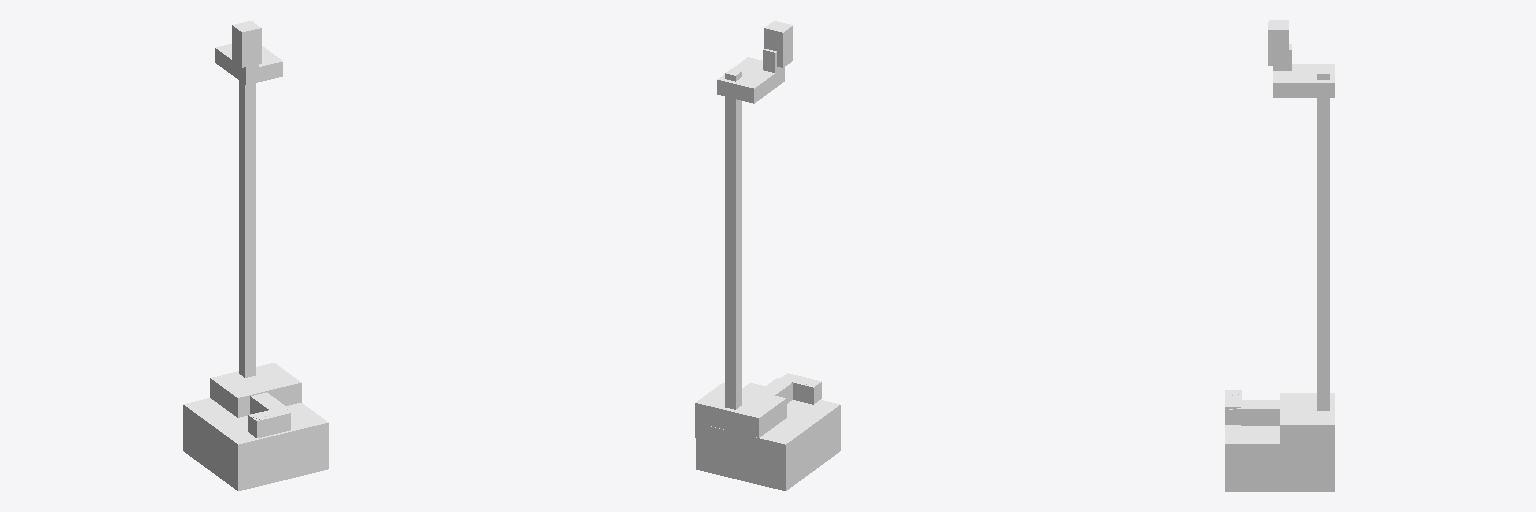
--- Facts derived from the render (not from the file) ---
3 views of the same robot in one strip: view 1: azimuth 30°, elevation 25°; view 2: azimuth 150°, elevation 25°; view 3: azimuth 270°, elevation 25° (orthographic).
Model stretch_description_S2.SLDASM with 23 links and 22 joints (5 revolute, 5 prismatic, 12 fixed), rooted at base_link, posed every joint at zero.
Visible links, largest first — view 1: base_link, link_mast, link_lift, link_head, link_head_tilt, link_arm_l0; view 2: base_link, link_mast, link_lift, link_head, link_head_tilt, link_arm_l0; view 3: base_link, link_mast, link_lift, link_head, link_arm_l4, link_head_tilt.
Link boxes in pixels (box(x1,y1,x2,y2)): base_link: box(183, 398, 328, 490); link_mast: box(239, 81, 255, 377); link_lift: box(210, 363, 301, 417); link_head: box(215, 44, 282, 84); link_head_tilt: box(232, 21, 261, 67); link_arm_l0: box(248, 407, 290, 437); base_link: box(696, 383, 840, 490); link_mast: box(725, 69, 741, 409); link_lift: box(695, 383, 786, 437); link_head: box(717, 57, 784, 103); link_head_tilt: box(764, 21, 792, 67); link_arm_l0: box(780, 373, 821, 404); base_link: box(1225, 400, 1334, 491); link_mast: box(1317, 69, 1329, 410); link_lift: box(1280, 393, 1334, 459); link_head: box(1273, 64, 1334, 97); link_arm_l4: box(1241, 401, 1279, 425); link_head_tilt: box(1268, 20, 1288, 65).
Size in the robot's own frame: 0.326 by 0.342 by 1.5 metres.
Meshes: 23 distinct files referenced, 12 mesh visuals loaded (12 binary STL); not drawn: 11 (reference not matched to a file when rendering).

The robot description file, URDF, robot "stretch_description_S2.SLDASM":
<?xml version="1.0" encoding="utf-8"?>
<!-- This URDF was automatically created by SolidWorks to URDF Exporter! Originally created by Stephen Brawner ([email redacted]) 
     Commit Version: 1.5.1-0-g916b5db  Build Version: 1.5.7152.31018
     For more information, please see http://wiki.ros.org/sw_urdf_exporter -->
<robot
  name="stretch_description_S2.SLDASM">
  <link
    name="base_link">
    <inertial>
      <origin
        xyz="-0.087526 -0.001626 0.081009"
        rpy="0 0 0" />
      <mass
        value="17.384389" />
      <inertia
        ixx="0.160002"
        ixy="0.006758"
        ixz="0.004621"
        iyy="0.138068"
        iyz="0.002208"
        izz="0.228992" />
    </inertial>
    <visual>
      <origin
        xyz="0 0 0"
        rpy="0 0 0" />
      <geometry>
        <mesh
          filename="package://stretch_description_S2.SLDASM/meshes/base_link.STL" />
      </geometry>
      <material
        name="">
        <color
          rgba="1 1 1 1" />
      </material>
    </visual>
    <collision>
      <origin
        xyz="0 0 0"
        rpy="0 0 0" />
      <geometry>
        <mesh
          filename="package://stretch_description_S2.SLDASM/meshes/base_link.STL" />
      </geometry>
    </collision>
  </link>
  <link
    name="link_right_wheel">
    <inertial>
      <origin
        xyz="0 0 0.02765"
        rpy="0 0 0" />
      <mass
        value="0.20773" />
      <inertia
        ixx="5.4E-05"
        ixy="0"
        ixz="0"
        iyy="5.4E-05"
        iyz="0"
        izz="5.1E-05" />
    </inertial>
    <visual>
      <origin
        xyz="0 0 0"
        rpy="0 0 0" />
      <geometry>
        <mesh
          filename="package://stretch_description_S2.SLDASM/meshes/link_right_wheel.STL" />
      </geometry>
      <material
        name="">
        <color
          rgba="1 1 1 1" />
      </material>
    </visual>
    <collision>
      <origin
        xyz="0 0 0"
        rpy="0 0 0" />
      <geometry>
        <mesh
          filename="package://stretch_description_S2.SLDASM/meshes/link_right_wheel.STL" />
      </geometry>
    </collision>
  </link>
  <joint
    name="joint_right_wheel"
    type="revolute">
    <origin
      xyz="0 -0.17035 0.0508"
      rpy="-1.570796327 0 0" />
    <parent
      link="base_link" />
    <child
      link="link_right_wheel" />
    <axis
      xyz="0 0 -1" />
    <limit
      lower="0"
      upper="0"
      effort="0"
      velocity="0" />
  </joint>
  <link
    name="link_left_wheel">
    <inertial>
      <origin
        xyz="0 0 -0.02765"
        rpy="0 0 0" />
      <mass
        value="0.20773" />
      <inertia
        ixx="5.4E-05"
        ixy="0"
        ixz="0"
        iyy="5.4E-05"
        iyz="0"
        izz="5.1E-05" />
    </inertial>
    <visual>
      <origin
        xyz="0 0 0"
        rpy="0 0 0" />
      <geometry>
        <mesh
          filename="package://stretch_description_S2.SLDASM/meshes/link_left_wheel.STL" />
      </geometry>
      <material
        name="">
        <color
          rgba="1 1 1 1" />
      </material>
    </visual>
    <collision>
      <origin
        xyz="0 0 0"
        rpy="0 0 0" />
      <geometry>
        <mesh
          filename="package://stretch_description_S2.SLDASM/meshes/link_left_wheel.STL" />
      </geometry>
    </collision>
  </link>
  <joint
    name="joint_left_wheel"
    type="revolute">
    <origin
      xyz="0 0.17035 0.0508"
      rpy="-1.570796327 0 0" />
    <parent
      link="base_link" />
    <child
      link="link_left_wheel" />
    <axis
      xyz="0 0 -1" />
    <limit
      lower="0"
      upper="0"
      effort="0"
      velocity="0" />
  </joint>
  <link
    name="link_aruco_right_base">
    <inertial>
      <origin
        xyz="0 0 0"
        rpy="0 0 0" />
      <mass
        value="0.000917" />
      <inertia
        ixx="0"
        ixy="0"
        ixz="0"
        iyy="0"
        iyz="0"
        izz="0" />
    </inertial>
    <visual>
      <origin
        xyz="0 0 0"
        rpy="0 0 0" />
      <geometry>
        <mesh
          filename="package://stretch_description_S2.SLDASM/meshes/link_aruco_right_base.STL" />
      </geometry>
      <material
        name="">
        <color
          rgba="1 1 1 1" />
      </material>
    </visual>
    <collision>
      <origin
        xyz="0 0 0"
        rpy="0 0 0" />
      <geometry>
        <mesh
          filename="package://stretch_description_S2.SLDASM/meshes/link_aruco_right_base.STL" />
      </geometry>
    </collision>
  </link>
  <joint
    name="joint_aruco_right_base"
    type="fixed">
    <origin
      xyz="-0.001502848 -0.1304972 0.1598472"
      rpy="0 0 -1.570796327" />
    <parent
      link="base_link" />
    <child
      link="link_aruco_right_base" />
    <axis
      xyz="0 0 0" />
  </joint>
  <link
    name="link_aruco_left_base">
    <inertial>
      <origin
        xyz="0 0 0"
        rpy="0 0 0" />
      <mass
        value="0.000917" />
      <inertia
        ixx="0"
        ixy="0"
        ixz="0"
        iyy="0"
        iyz="0"
        izz="0" />
    </inertial>
    <visual>
      <origin
        xyz="0 0 0"
        rpy="0 0 0" />
      <geometry>
        <mesh
          filename="package://stretch_description_S2.SLDASM/meshes/link_aruco_left_base.STL" />
      </geometry>
      <material
        name="">
        <color
          rgba="1 1 1 1" />
      </material>
    </visual>
    <collision>
      <origin
        xyz="0 0 0"
        rpy="0 0 0" />
      <geometry>
        <mesh
          filename="package://stretch_description_S2.SLDASM/meshes/link_aruco_left_base.STL" />
      </geometry>
    </collision>
  </link>
  <joint
    name="joint_aruco_left_base"
    type="fixed">
    <origin
      xyz="-0.001502848 0.1304972 0.1598472"
      rpy="0 0 -1.570796327" />
    <parent
      link="base_link" />
    <child
      link="link_aruco_left_base" />
    <axis
      xyz="0 0 0" />
  </joint>
  <link
    name="laser">
    <inertial>
      <origin
        xyz="0.011979 -0.000523 -0.01998"
        rpy="0 0 0" />
      <mass
        value="0.216007" />
      <inertia
        ixx="9.5E-05"
        ixy="2E-06"
        ixz="-1.9E-05"
        iyy="0.000184"
        iyz="-1E-06"
        izz="0.000216" />
    </inertial>
    <visual>
      <origin
        xyz="0 0 0"
        rpy="0 0 0" />
      <geometry>
        <mesh
          filename="package://stretch_description_S2.SLDASM/meshes/laser.STL" />
      </geometry>
      <material
        name="">
        <color
          rgba="1 1 1 1" />
      </material>
    </visual>
    <collision>
      <origin
        xyz="0 0 0"
        rpy="0 0 0" />
      <geometry>
        <mesh
          filename="package://stretch_description_S2.SLDASM/meshes/laser.STL" />
      </geometry>
    </collision>
  </link>
  <joint
    name="joint_laser"
    type="fixed">
    <origin
      xyz="0.003999952 0 0.1664"
      rpy="0 0 3.141592654" />
    <parent
      link="base_link" />
    <child
      link="laser" />
    <axis
      xyz="0 0 0" />
  </joint>
  <link
    name="link_mast">
    <inertial>
      <origin
        xyz="0.000337 0.722201 0.002652"
        rpy="0 0 0" />
      <mass
        value="1.764017" />
      <inertia
        ixx="0.291286"
        ixy="0.004149"
        ixz="-0.000174"
        iyy="0.001226"
        iyz="0.000354"
        izz="0.291429" />
    </inertial>
    <visual>
      <origin
        xyz="0 0 0"
        rpy="0 0 0" />
      <geometry>
        <mesh
          filename="package://stretch_description_S2.SLDASM/meshes/link_mast.STL" />
      </geometry>
      <material
        name="">
        <color
          rgba="1 1 1 1" />
      </material>
    </visual>
    <collision>
      <origin
        xyz="0 0 0"
        rpy="0 0 0" />
      <geometry>
        <mesh
          filename="package://stretch_description_S2.SLDASM/meshes/link_mast.STL" />
      </geometry>
    </collision>
  </link>
  <joint
    name="joint_mast"
    type="fixed">
    <origin
      xyz="-0.067 0.135 0.0284"
      rpy="1.570796327 0 0" />
    <parent
      link="base_link" />
    <child
      link="link_mast" />
    <axis
      xyz="0 0 0" />
  </joint>
  <link
    name="link_lift">
    <inertial>
      <origin
        xyz="-0.020369 0.03438 0.02236"
        rpy="0 0 0" />
      <mass
        value="1.987167" />
      <inertia
        ixx="0.006518"
        ixy="-0.001539"
        ixz="0.000371"
        iyy="0.004464"
        iyz="0.000392"
        izz="0.008092" />
    </inertial>
    <visual>
      <origin
        xyz="0 0 0"
        rpy="0 0 0" />
      <geometry>
        <mesh
          filename="package://stretch_description_S2.SLDASM/meshes/link_lift.STL" />
      </geometry>
      <material
        name="">
        <color
          rgba="1 1 1 1" />
      </material>
    </visual>
    <collision>
      <origin
        xyz="0 0 0"
        rpy="0 0 0" />
      <geometry>
        <mesh
          filename="package://stretch_description_S2.SLDASM/meshes/link_lift.STL" />
      </geometry>
    </collision>
  </link>
  <joint
    name="joint_lift"
    type="prismatic">
    <origin
      xyz="-0.037385437 0.1665972 0"
      rpy="1.570796327 1.570796327 0" />
    <parent
      link="link_mast" />
    <child
      link="link_lift" />
    <axis
      xyz="0 0 -1" />
    <limit
      lower="0"
      upper="1.1"
      effort="1"
      velocity="1" />
  </joint>
  <link
    name="link_aruco_shoulder">
    <inertial>
      <origin
        xyz="0 0 0"
        rpy="0 0 0" />
      <mass
        value="0.000917" />
      <inertia
        ixx="0"
        ixy="0"
        ixz="0"
        iyy="0"
        iyz="0"
        izz="0" />
    </inertial>
    <visual>
      <origin
        xyz="0 0 0"
        rpy="0 0 0" />
      <geometry>
        <mesh
          filename="package://stretch_description_S2.SLDASM/meshes/link_aruco_shoulder.STL" />
      </geometry>
      <material
        name="">
        <color
          rgba="1 1 1 1" />
      </material>
    </visual>
    <collision>
      <origin
        xyz="0 0 0"
        rpy="0 0 0" />
      <geometry>
        <mesh
          filename="package://stretch_description_S2.SLDASM/meshes/link_aruco_shoulder.STL" />
      </geometry>
    </collision>
  </link>
  <joint
    name="joint_aruco_shoulder"
    type="fixed">
    <origin
      xyz="-0.013376888 0.055391903 0.086390827"
      rpy="0 0 0" />
    <parent
      link="link_lift" />
    <child
      link="link_aruco_shoulder" />
    <axis
      xyz="0 0 0" />
  </joint>
  <link
    name="link_arm_l4">
    <inertial>
      <origin
        xyz="-0.000168 -0.000254 -0.125235"
        rpy="0 0 0" />
      <mass
        value="0.235626" />
      <inertia
        ixx="0.001518"
        ixy="-1E-06"
        ixz="3E-06"
        iyy="0.001519"
        iyz="3E-06"
        izz="0.000176" />
    </inertial>
    <visual>
      <origin
        xyz="0 0 0"
        rpy="0 0 0" />
      <geometry>
        <mesh
          filename="package://stretch_description_S2.SLDASM/meshes/link_arm_l4.STL" />
      </geometry>
      <material
        name="">
        <color
          rgba="1 1 1 1" />
      </material>
    </visual>
    <collision>
      <origin
        xyz="0 0 0"
        rpy="0 0 0" />
      <geometry>
        <mesh
          filename="package://stretch_description_S2.SLDASM/meshes/link_arm_l4.STL" />
      </geometry>
    </collision>
  </link>
  <joint
    name="joint_arm_l4"
    type="fixed">
    <origin
      xyz="-0.2547027 0 0"
      rpy="1.570796327 0 -1.570796327" />
    <parent
      link="link_lift" />
    <child
      link="link_arm_l4" />
    <axis
      xyz="0 0 0" />
  </joint>
  <link
    name="link_arm_l3">
    <inertial>
      <origin
        xyz="-1E-06 -0.000146 -0.11908"
        rpy="0 0 0" />
      <mass
        value="0.146817" />
      <inertia
        ixx="0.001081"
        ixy="0"
        ixz="0"
        iyy="0.001081"
        iyz="-1E-06"
        izz="7.7E-05" />
    </inertial>
    <visual>
      <origin
        xyz="0 0 0"
        rpy="0 0 0" />
      <geometry>
        <mesh
          filename="package://stretch_description_S2.SLDASM/meshes/link_arm_l3.STL" />
      </geometry>
      <material
        name="">
        <color
          rgba="1 1 1 1" />
      </material>
    </visual>
    <collision>
      <origin
        xyz="0 0 0"
        rpy="0 0 0" />
      <geometry>
        <mesh
          filename="package://stretch_description_S2.SLDASM/meshes/link_arm_l3.STL" />
      </geometry>
    </collision>
  </link>
  <joint
    name="joint_arm_l3"
    type="prismatic">
    <origin
      xyz="0 0 0.013"
      rpy="0 0 0" />
    <parent
      link="link_arm_l4" />
    <child
      link="link_arm_l3" />
    <axis
      xyz="0 0 -1" />
    <limit
      lower="0"
      upper="1"
      effort="1"
      velocity="1" />
  </joint>
  <link
    name="link_arm_l2">
    <inertial>
      <origin
        xyz="0 -7.1E-05 -0.115635"
        rpy="0 0 0" />
      <mass
        value="0.130565" />
      <inertia
        ixx="0.000943"
        ixy="0"
        ixz="0"
        iyy="0.000943"
        iyz="0"
        izz="5.7E-05" />
    </inertial>
    <visual>
      <origin
        xyz="0 0 0"
        rpy="0 0 0" />
      <geometry>
        <mesh
          filename="package://stretch_description_S2.SLDASM/meshes/link_arm_l2.STL" />
      </geometry>
      <material
        name="">
        <color
          rgba="1 1 1 1" />
      </material>
    </visual>
    <collision>
      <origin
        xyz="0 0 0"
        rpy="0 0 0" />
      <geometry>
        <mesh
          filename="package://stretch_description_S2.SLDASM/meshes/link_arm_l2.STL" />
      </geometry>
    </collision>
  </link>
  <joint
    name="joint_arm_l2"
    type="prismatic">
    <origin
      xyz="0 0 0.013"
      rpy="0 0 0" />
    <parent
      link="link_arm_l3" />
    <child
      link="link_arm_l2" />
    <axis
      xyz="0 0 -1" />
    <limit
      lower="0"
      upper="1"
      effort="1"
      velocity="1" />
  </joint>
  <link
    name="link_arm_l1">
    <inertial>
      <origin
        xyz="-1E-06 -0.000121 -0.113457"
        rpy="0 0 0" />
      <mass
        value="0.113658" />
      <inertia
        ixx="0.0008"
        ixy="0"
        ixz="0"
        iyy="0.0008"
        iyz="0"
        izz="4E-05" />
    </inertial>
    <visual>
      <origin
        xyz="0 0 0"
        rpy="0 0 0" />
      <geometry>
        <mesh
          filename="package://stretch_description_S2.SLDASM/meshes/link_arm_l1.STL" />
      </geometry>
      <material
        name="">
        <color
          rgba="1 1 1 1" />
      </material>
    </visual>
    <collision>
      <origin
        xyz="0 0 0"
        rpy="0 0 0" />
      <geometry>
        <mesh
          filename="package://stretch_description_S2.SLDASM/meshes/link_arm_l1.STL" />
      </geometry>
    </collision>
  </link>
  <joint
    name="joint_arm_l1"
    type="prismatic">
    <origin
      xyz="0 0 0.013"
      rpy="0 0 0" />
    <parent
      link="link_arm_l2" />
    <child
      link="link_arm_l1" />
    <axis
      xyz="0 0 -1" />
    <limit
      lower="0"
      upper="1"
      effort="1"
      velocity="1" />
  </joint>
  <link
    name="link_arm_l0">
    <inertial>
      <origin
        xyz="0.033681 -0.000847 -0.031723"
        rpy="0 0 0" />
      <mass
        value="0.427734" />
      <inertia
        ixx="0.001689"
        ixy="-2.8E-05"
        ixz="0.000483"
        iyy="0.002107"
        iyz="-1.1E-05"
        izz="0.000571" />
    </inertial>
    <visual>
      <origin
        xyz="0 0 0"
        rpy="0 0 0" />
      <geometry>
        <mesh
          filename="package://stretch_description_S2.SLDASM/meshes/link_arm_l0.STL" />
      </geometry>
      <material
        name="">
        <color
          rgba="1 1 1 1" />
      </material>
    </visual>
    <collision>
      <origin
        xyz="0 0 0"
        rpy="0 0 0" />
      <geometry>
        <mesh
          filename="package://stretch_description_S2.SLDASM/meshes/link_arm_l0.STL" />
      </geometry>
    </collision>
  </link>
  <joint
    name="joint_arm_l0"
    type="prismatic">
    <origin
      xyz="0 0 -0.01375"
      rpy="0 0 0" />
    <parent
      link="link_arm_l1" />
    <child
      link="link_arm_l0" />
    <axis
      xyz="0 0 -1" />
    <limit
      lower="0"
      upper="1"
      effort="1"
      velocity="1" />
  </joint>
  <link
    name="link_aruco_top_wrist">
    <inertial>
      <origin
        xyz="0 0 0"
        rpy="0 0.000229 0" />
      <mass
        value="0.000917" />
      <inertia
        ixx="0"
        ixy="0"
        ixz="0"
        iyy="0"
        iyz="0"
        izz="0" />
    </inertial>
    <visual>
      <origin
        xyz="0 0 0"
        rpy="0 0 0" />
      <geometry>
        <mesh
          filename="package://stretch_description_S2.SLDASM/meshes/link_aruco_top_wrist.STL" />
      </geometry>
      <material
        name="">
        <color
          rgba="1 1 1 1" />
      </material>
    </visual>
    <collision>
      <origin
        xyz="0 0 0"
        rpy="0 0 0" />
      <geometry>
        <mesh
          filename="package://stretch_description_S2.SLDASM/meshes/link_aruco_top_wrist.STL" />
      </geometry>
    </collision>
  </link>
  <joint
    name="joint_aruco_top_wrist"
    type="fixed">
    <origin
      xyz="0.04725 0.029285 0"
      rpy="1.570796327 0 3.141592654" />
    <parent
      link="link_arm_l0" />
    <child
      link="link_aruco_top_wrist" />
    <axis
      xyz="0 0 0" />
  </joint>
  <link
    name="link_aruco_inner_wrist">
    <inertial>
      <origin
        xyz="0 0 0"
        rpy="0 0.000229 0" />
      <mass
        value="0.000917" />
      <inertia
        ixx="0"
        ixy="0"
        ixz="0"
        iyy="0"
        iyz="0"
        izz="0" />
    </inertial>
    <visual>
      <origin
        xyz="0 0 0"
        rpy="0 0 0" />
      <geometry>
        <mesh
          filename="package://stretch_description_S2.SLDASM/meshes/link_aruco_inner_wrist.STL" />
      </geometry>
      <material
        name="">
        <color
          rgba="1 1 1 1" />
      </material>
    </visual>
    <collision>
      <origin
        xyz="0 0 0"
        rpy="0 0 0" />
      <geometry>
        <mesh
          filename="package://stretch_description_S2.SLDASM/meshes/link_aruco_inner_wrist.STL" />
      </geometry>
    </collision>
  </link>
  <joint
    name="joint_aruco_inner_wrist"
    type="fixed">
    <origin
      xyz="0.04725 -0.0119 -0.02725"
      rpy="3.141592654 0 3.141592654" />
    <parent
      link="link_arm_l0" />
    <child
      link="link_aruco_inner_wrist" />
    <axis
      xyz="0 0 0" />
  </joint>
  <link
    name="link_wrist_yaw">
    <inertial>
      <origin
        xyz="0 -3.9E-05 -0.016495"
        rpy="0 0 0" />
      <mass
        value="0.054422" />
      <inertia
        ixx="9E-06"
        ixy="0"
        ixz="0"
        iyy="9E-06"
        iyz="0"
        izz="7E-06" />
    </inertial>
    <visual>
      <origin
        xyz="0 0 0"
        rpy="0 0 0" />
      <geometry>
        <mesh
          filename="package://stretch_description_S2.SLDASM/meshes/link_wrist_yaw.STL" />
      </geometry>
      <material
        name="">
        <color
          rgba="1 1 1 1" />
      </material>
    </visual>
    <collision>
      <origin
        xyz="0 0 0"
        rpy="0 0 0" />
      <geometry>
        <mesh
          filename="package://stretch_description_S2.SLDASM/meshes/link_wrist_yaw.STL" />
      </geometry>
    </collision>
  </link>
  <joint
    name="joint_wrist_yaw"
    type="revolute">
    <origin
      xyz="0.083 -0.03075 0"
      rpy="-1.570796327 0 3.141592654" />
    <parent
      link="link_arm_l0" />
    <child
      link="link_wrist_yaw" />
    <axis
      xyz="0 0 -1" />
    <limit
      lower="0"
      upper="3.1416"
      effort="1"
      velocity="1" />
  </joint>
  <link
    name="respeaker_base">
    <inertial>
      <origin
        xyz="-0.001594 -0.001282 -0.008098"
        rpy="0 0 0" />
      <mass
        value="0.025175" />
      <inertia
        ixx="1E-05"
        ixy="2E-06"
        ixz="1E-06"
        iyy="1.2E-05"
        iyz="0"
        izz="1.5E-05" />
    </inertial>
    <visual>
      <origin
        xyz="0 0 0"
        rpy="0 0 0" />
      <geometry>
        <mesh
          filename="package://stretch_description_S2.SLDASM/meshes/respeaker_base.STL" />
      </geometry>
      <material
        name="">
        <color
          rgba="1 1 1 1" />
      </material>
    </visual>
    <collision>
      <origin
        xyz="0 0 0"
        rpy="0 0 0" />
      <geometry>
        <mesh
          filename="package://stretch_description_S2.SLDASM/meshes/respeaker_base.STL" />
      </geometry>
    </collision>
  </link>
  <joint
    name="joint_respeaker_base"
    type="fixed">
    <origin
      xyz="0 1.372364089 0.003030659"
      rpy="-1.570796327 -0.698131701 0" />
    <parent
      link="link_mast" />
    <child
      link="respeaker_base" />
    <axis
      xyz="0 0 0" />
  </joint>
  <link
    name="link_head">
    <inertial>
      <origin
        xyz="0.047462 0.04451 0.016376"
        rpy="0 0 0" />
      <mass
        value="0.681871" />
      <inertia
        ixx="0.001023"
        ixy="0.000641"
        ixz="6.6E-05"
        iyy="0.002097"
        iyz="6.5E-05"
        izz="0.00281" />
    </inertial>
    <visual>
      <origin
        xyz="0 0 0"
        rpy="0 0 0" />
      <geometry>
        <mesh
          filename="package://stretch_description_S2.SLDASM/meshes/link_head.STL" />
      </geometry>
      <material
        name="">
        <color
          rgba="1 1 1 1" />
      </material>
    </visual>
    <collision>
      <origin
        xyz="0 0 0"
        rpy="0 0 0" />
      <geometry>
        <mesh
          filename="package://stretch_description_S2.SLDASM/meshes/link_head.STL" />
      </geometry>
    </collision>
  </link>
  <joint
    name="joint_head"
    type="fixed">
    <origin
      xyz="0 1.33 0"
      rpy="1.5708 -1.5708 0" />
    <parent
      link="link_mast" />
    <child
      link="link_head" />
    <axis
      xyz="0 0 0" />
  </joint>
  <link
    name="link_head_pan">
    <inertial>
      <origin
        xyz="-0.000422 0.013934 -0.0161"
        rpy="0 0 0" />
      <mass
        value="0.062462" />
      <inertia
        ixx="4.1E-05"
        ixy="-1E-06"
        ixz="1E-06"
        iyy="3.2E-05"
        iyz="-1.5E-05"
        izz="2.2E-05" />
    </inertial>
    <visual>
      <origin
        xyz="0 0 0"
        rpy="0 0 0" />
      <geometry>
        <mesh
          filename="package://stretch_description_S2.SLDASM/meshes/link_head_pan.STL" />
      </geometry>
      <material
        name="">
        <color
          rgba="1 1 1 1" />
      </material>
    </visual>
    <collision>
      <origin
        xyz="0 0 0"
        rpy="0 0 0" />
      <geometry>
        <mesh
          filename="package://stretch_description_S2.SLDASM/meshes/link_head_pan.STL" />
      </geometry>
    </collision>
  </link>
  <joint
    name="joint_head_pan"
    type="revolute">
    <origin
      xyz="0.135 0.0731 -0.0031962"
      rpy="0 0 1.5708" />
    <parent
      link="link_head" />
    <child
      link="link_head_pan" />
    <axis
      xyz="0 0 -1" />
    <limit
      lower="0"
      upper="1"
      effort="1"
      velocity="1" />
  </joint>
  <link
    name="link_head_tilt">
    <inertial>
      <origin
        xyz="0.003907 -0.02418 0.030154"
        rpy="0 0 0" />
      <mass
        value="0.283548" />
      <inertia
        ixx="0.000316"
        ixy="-6E-06"
        ixz="1E-06"
        iyy="0.000143"
        iyz="-2E-06"
        izz="0.00031" />
    </inertial>
    <visual>
      <origin
        xyz="0 0 0"
        rpy="0 0 0" />
      <geometry>
        <mesh
          filename="package://stretch_description_S2.SLDASM/meshes/link_head_tilt.STL" />
      </geometry>
      <material
        name="">
        <color
          rgba="1 1 1 1" />
      </material>
    </visual>
    <collision>
      <origin
        xyz="0 0 0"
        rpy="0 0 0" />
      <geometry>
        <mesh
          filename="package://stretch_description_S2.SLDASM/meshes/link_head_tilt.STL" />
      </geometry>
    </collision>
  </link>
  <joint
    name="joint_head_tilt"
    type="revolute">
    <origin
      xyz="-0.0013 0.0277625 -0.053310792"
      rpy="1.570796327 0 0" />
    <parent
      link="link_head_pan" />
    <child
      link="link_head_tilt" />
    <axis
      xyz="0 0 -1" />
    <limit
      lower="0"
      upper="3.1416"
      effort="1"
      velocity="1" />
  </joint>
  <link
    name="link_camera">
    <inertial>
      <origin
        xyz="-2E-06 -0.024182 -0.011778"
        rpy="0 0 0" />
      <mass
        value="0.072" />
      <inertia
        ixx="4.7E-05"
        ixy="0"
        ixz="0"
        iyy="7E-06"
        iyz="0"
        izz="4.7E-05" />
    </inertial>
    <visual>
      <origin
        xyz="0 0 0"
        rpy="0 0 0" />
      <geometry>
        <mesh
          filename="package://stretch_description_S2.SLDASM/meshes/link_camera.STL" />
      </geometry>
      <material
        name="">
        <color
          rgba="1 1 1 1" />
      </material>
    </visual>
    <collision>
      <origin
        xyz="0 0 0"
        rpy="0 0 0" />
      <geometry>
        <mesh
          filename="package://stretch_description_S2.SLDASM/meshes/link_camera.STL" />
      </geometry>
    </collision>
  </link>
  <joint
    name="joint_camera"
    type="fixed">
    <origin
      xyz="0.02025 -0.03425 0.0317625"
      rpy="3.141592654 1.570796327 0" />
    <parent
      link="link_head_tilt" />
    <child
      link="link_camera" />
    <axis
      xyz="0 0 0" />
  </joint>
  <link
    name="base_imu">
    <inertial>
      <origin
        xyz="0.003003 0.001498 -0.001931"
        rpy="0 0 0" />
      <mass
        value="0.00092" />
      <inertia
        ixx="3E-08"
        ixy="0"
        ixz="0"
        iyy="5E-08"
        iyz="0"
        izz="8E-08" />
    </inertial>
    <visual>
      <origin
        xyz="0 0 0"
        rpy="0 0 0" />
      <geometry>
        <mesh
          filename="package://stretch_description_S2.SLDASM/meshes/base_imu.STL" />
      </geometry>
      <material
        name="">
        <color
          rgba="1 1 1 1" />
      </material>
    </visual>
    <collision>
      <origin
        xyz="0 0 0"
        rpy="0 0 0" />
      <geometry>
        <mesh
          filename="package://stretch_description_S2.SLDASM/meshes/base_imu.STL" />
      </geometry>
    </collision>
  </link>
  <joint
    name="joint_base_imu"
    type="fixed">
    <origin
      xyz="-0.128380258 0.003159225 0.147398695"
      rpy="-3.141592654 0 -1.570794351" />
    <parent
      link="base_link" />
    <child
      link="base_imu" />
    <axis
      xyz="0 0 0" />
  </joint>
</robot>
